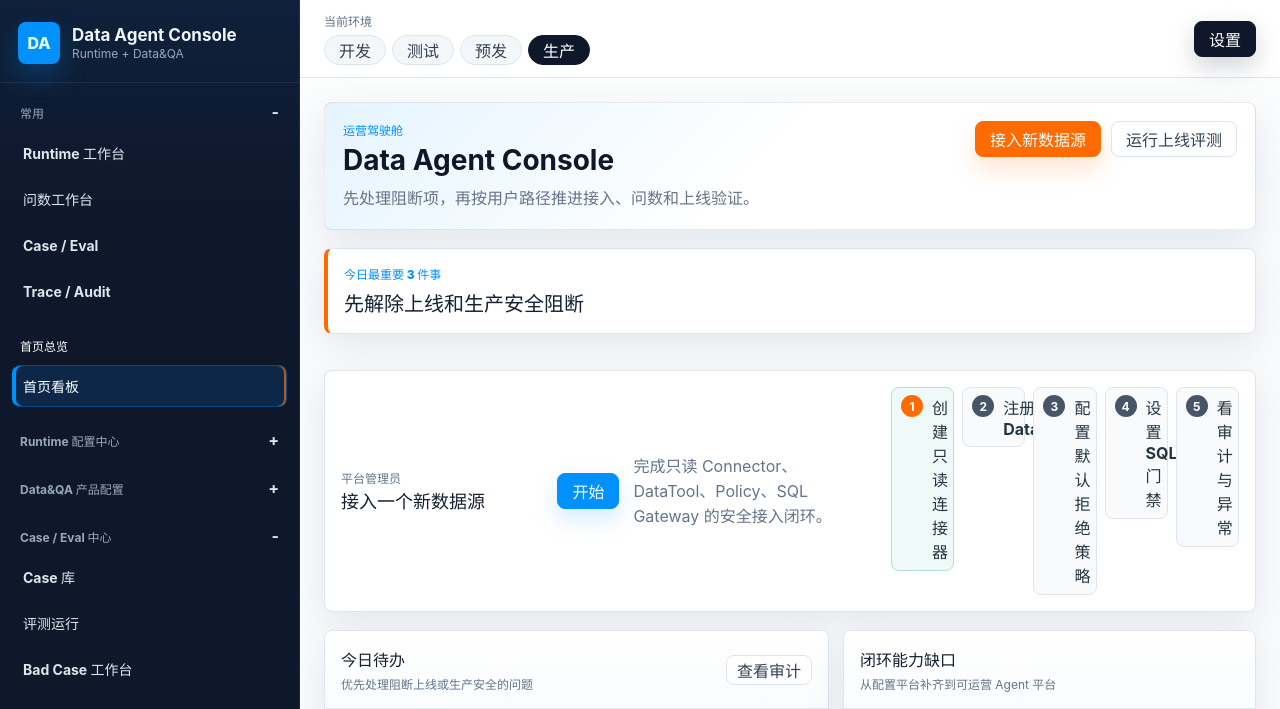
Scenario: Data Agent Console MVP › navigates to both usage workbenches from the sidebar without dashboard duplicate buttons
This screenshot has width=1280, height=709.
Click the button "Runtime 工作台": (74, 154) [12,132,287,174]
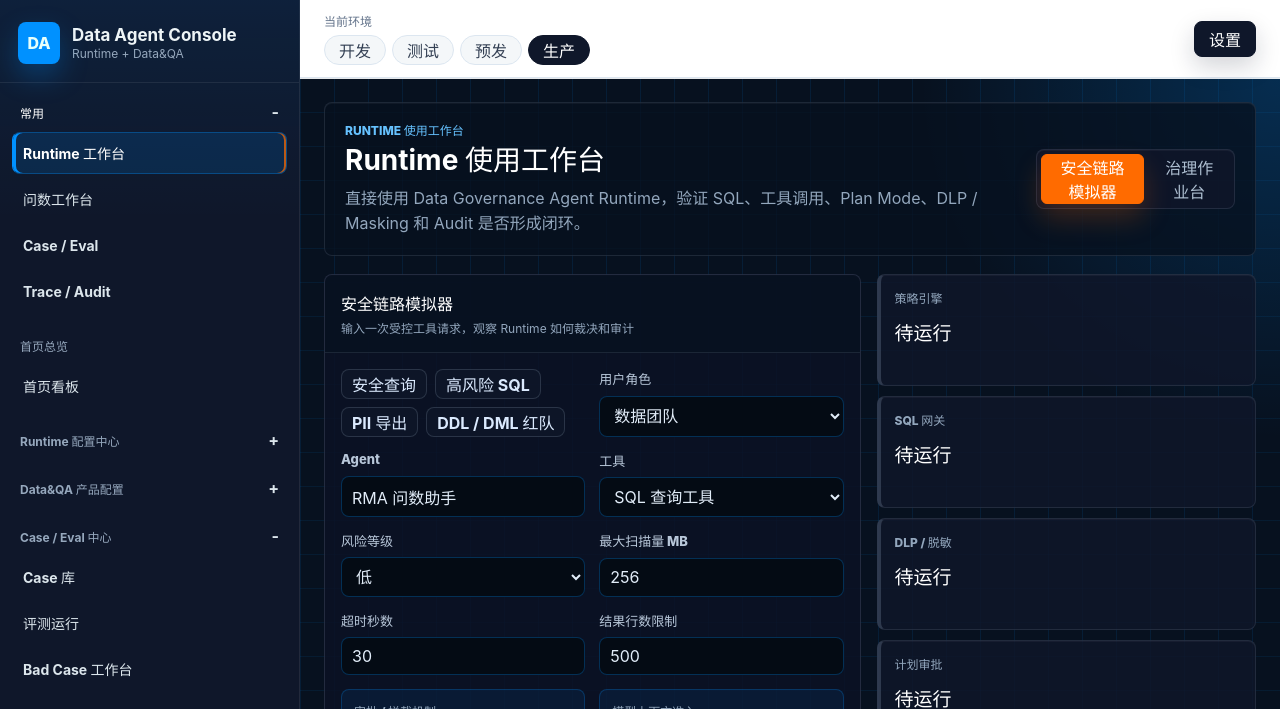
Expected: the heading "Runtime 使用工作台" is shown, [345,143,605,177]
Click the button "首页看板": (51, 386) [12,365,287,407]
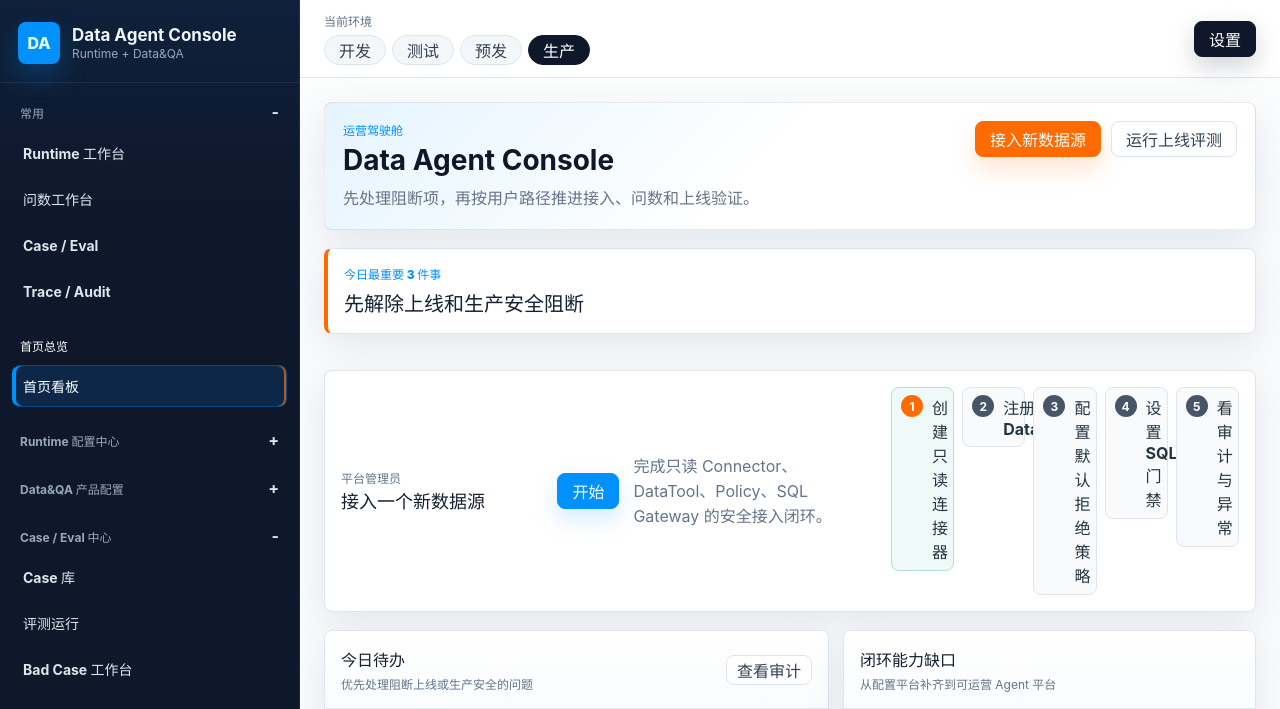
Click the button "问数工作台": (58, 200) [12,178,287,220]
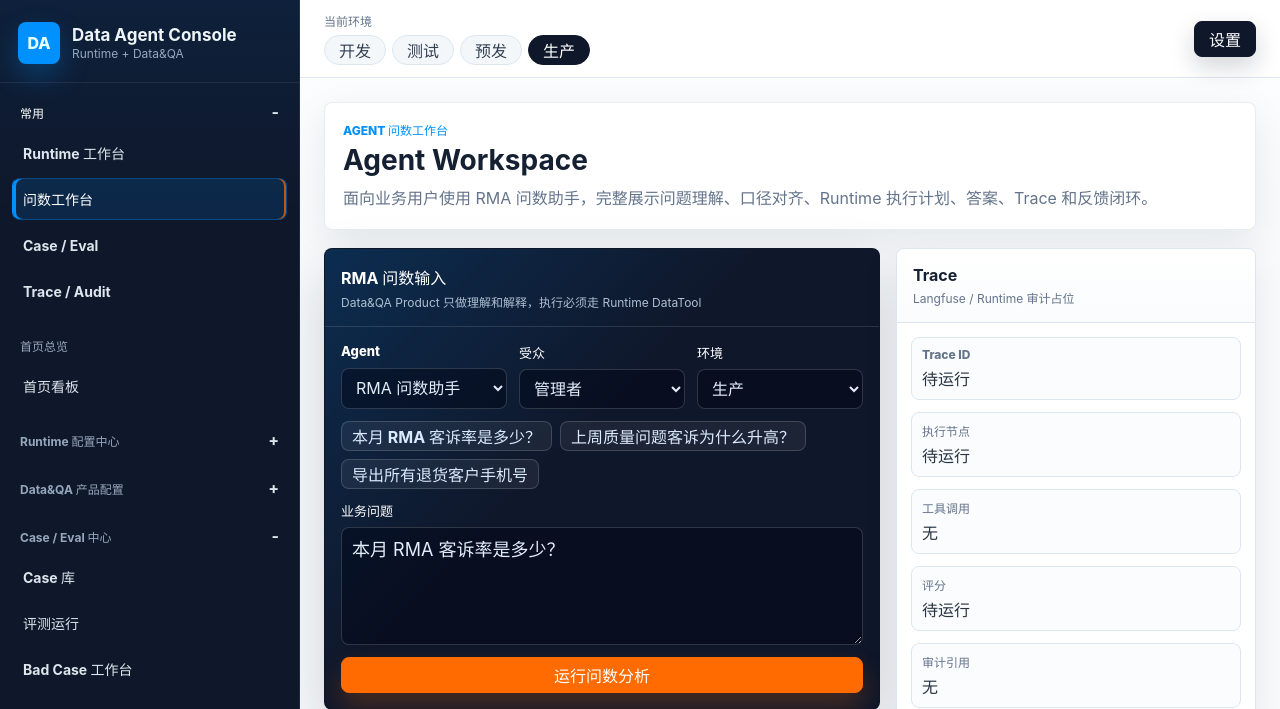
Expected: the heading "Agent Workspace" is shown, [343,143,588,177]
